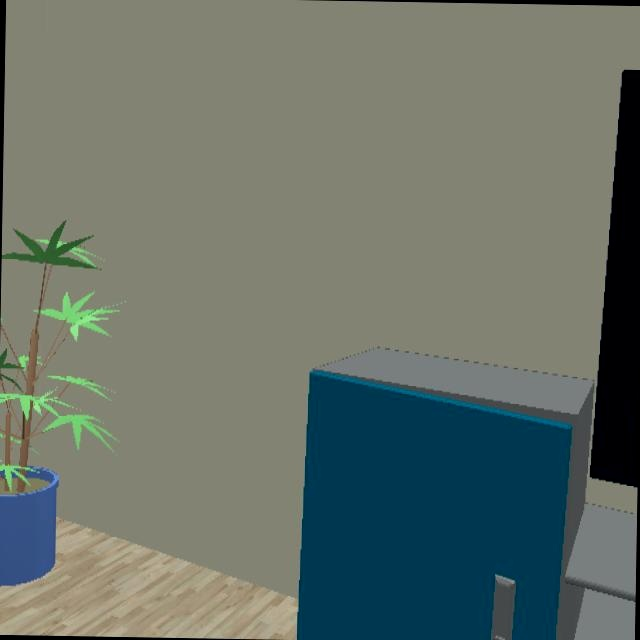cabinet: (299, 348, 592, 640)
monitor: (590, 69, 640, 486)
